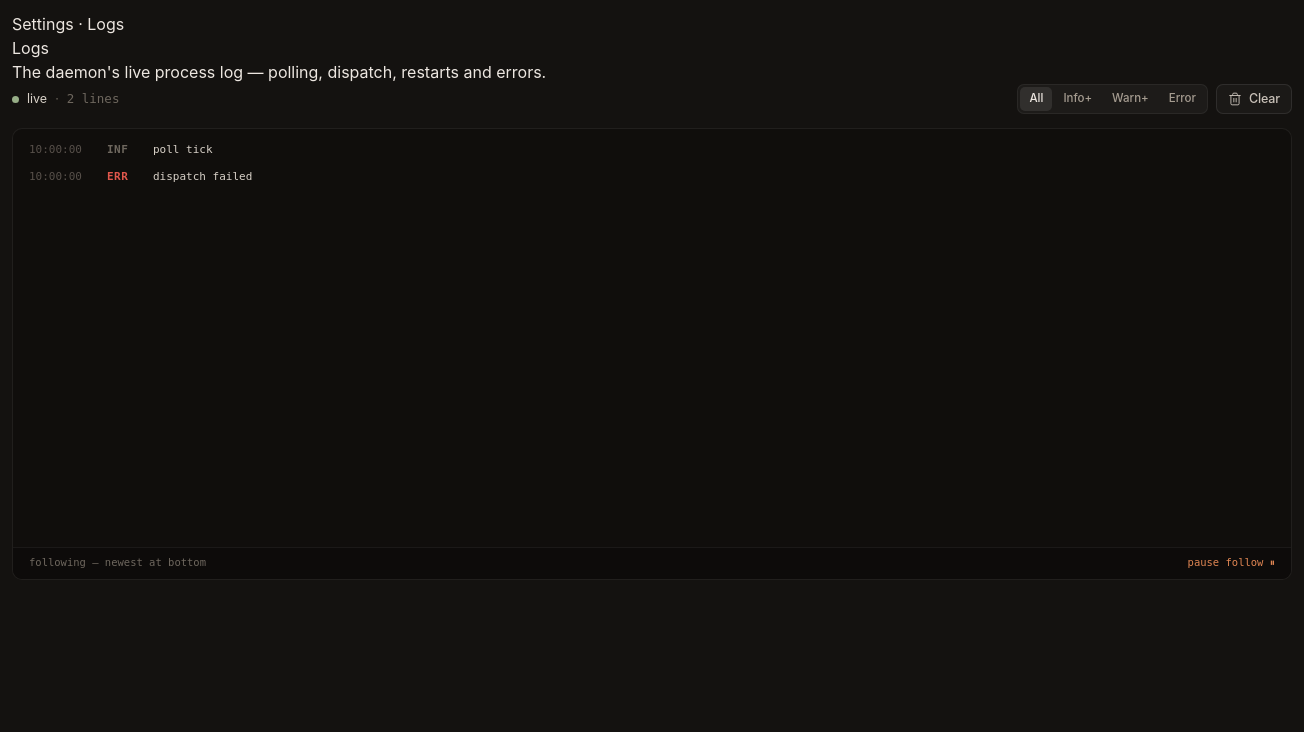
it: Logs — the live log stream in console chrome (audit G5) › keeps the level filter, and it actually filters
Click the tab "Error" at (1182, 99), box x1=1160 y1=87 x2=1205 y2=111
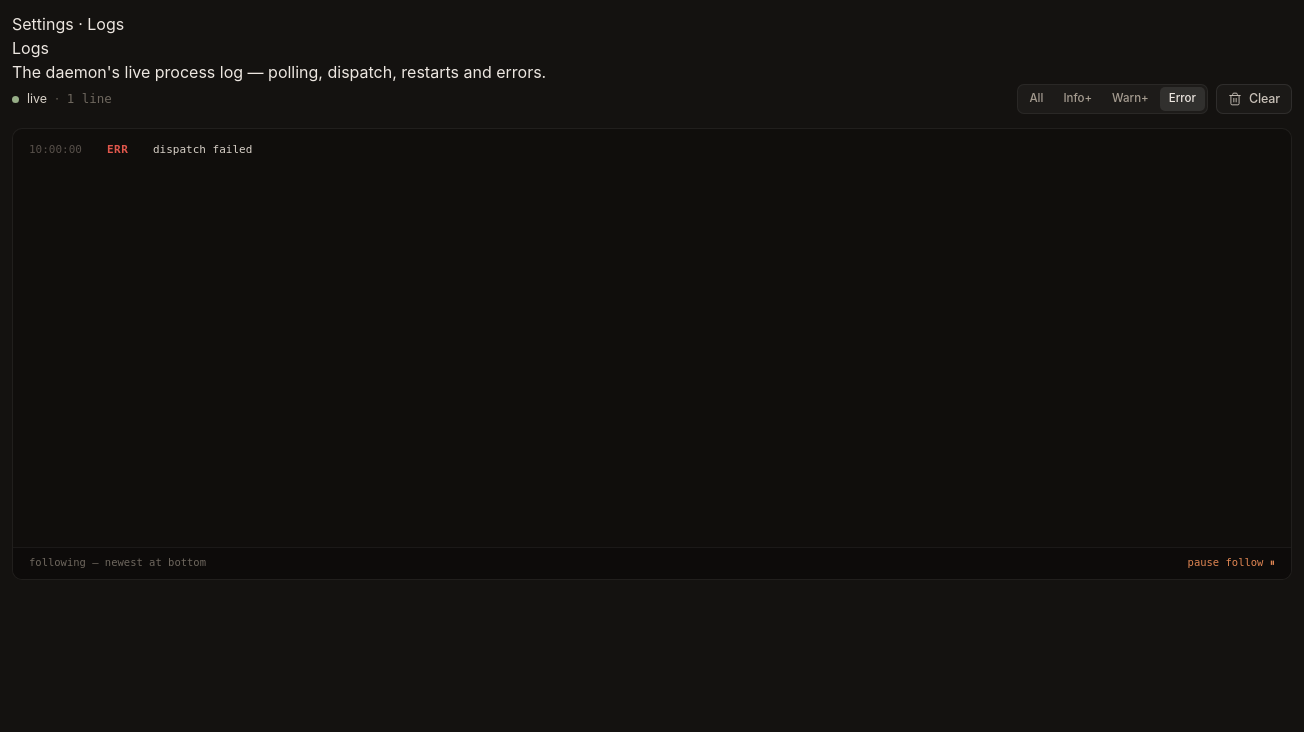
Expected: the text "dispatch failed" is shown, x1=153 y1=143 x2=252 y2=156
Expected: the text "poll tick" is gone
